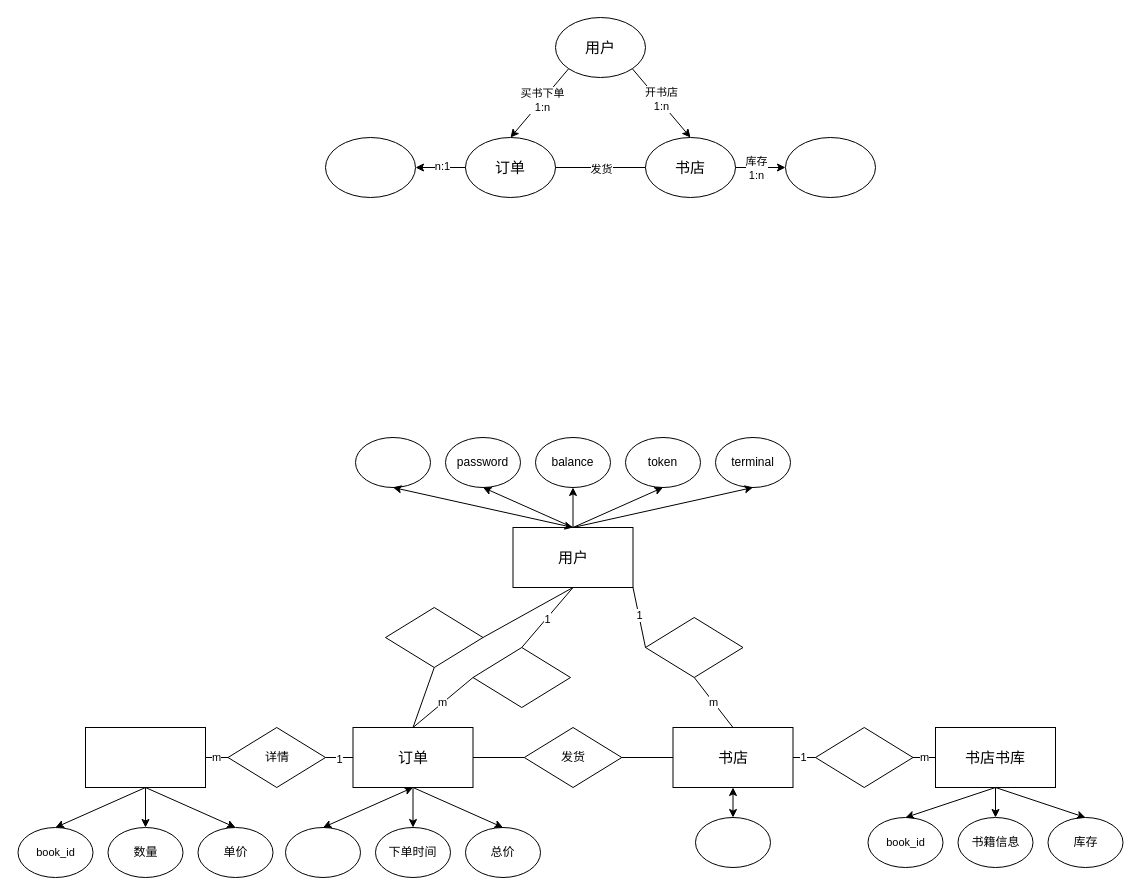
Image size: 1140x895. Some labels were removed from this diagram. The centre of each missing label's shape, as x and y in pixels:
order_id: the point at 322,852
store_id: the point at 732,842
user_id: the point at 392,462
书库: the point at 830,167
买书: the point at 521,677
储藏: the point at 863,757
开书店: the point at 693,647
收货: the point at 433,637
订单详情: the point at 145,757
订单详情 书、数量: the point at 370,167
